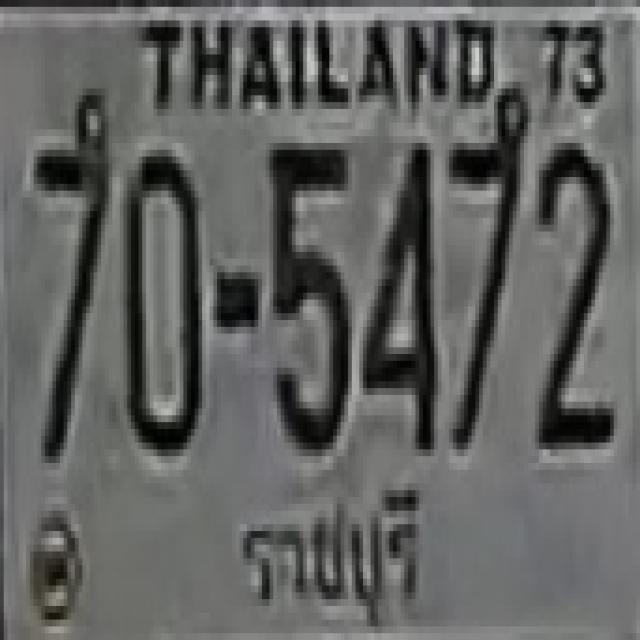0: (120, 143, 198, 449)
2: (534, 136, 608, 443)
4: (359, 136, 434, 443)
5: (268, 140, 346, 446)
7: (445, 105, 524, 446), (32, 116, 106, 456)
RBR: (228, 477, 428, 628)
